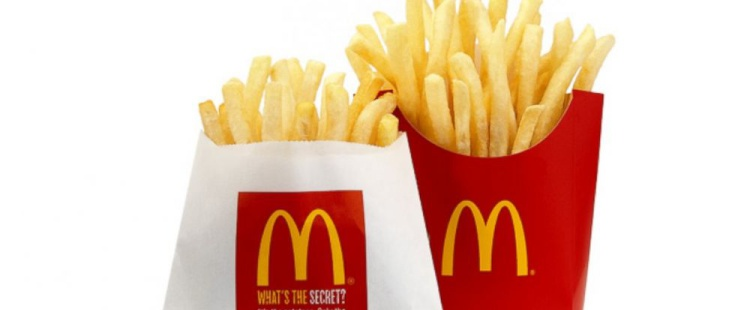mcdonalds: (255, 205, 348, 291), (442, 197, 531, 278)
